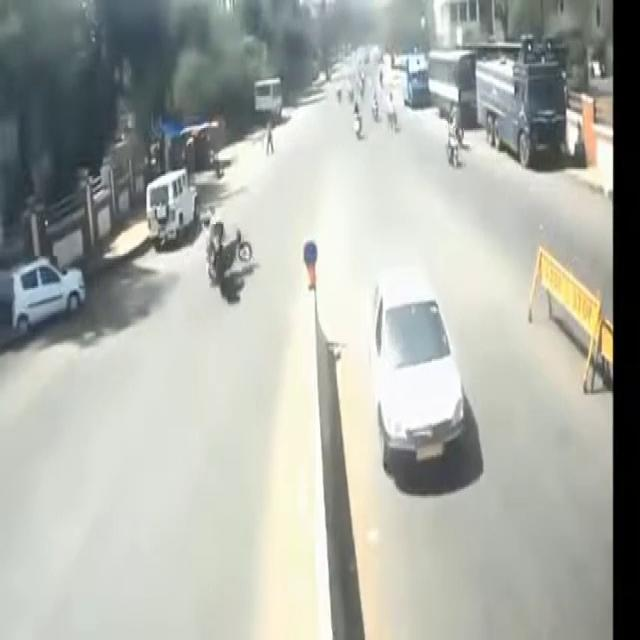accident: (192, 191, 272, 325)
